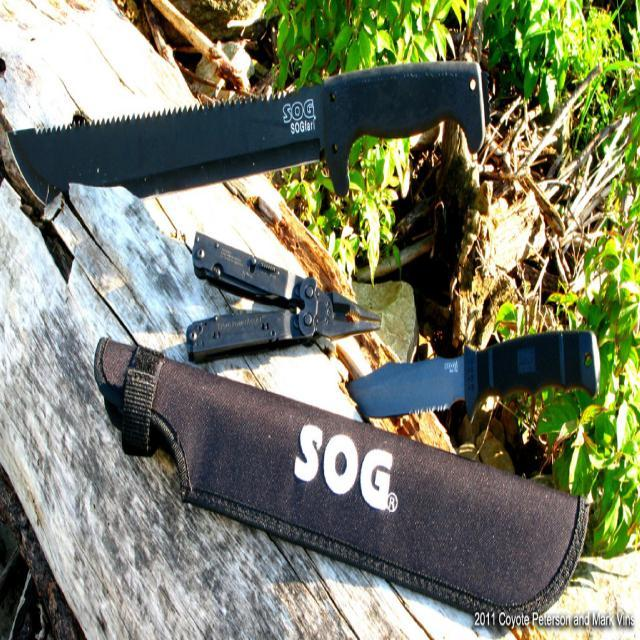Knife: (10, 61, 486, 199), (349, 331, 600, 417)
